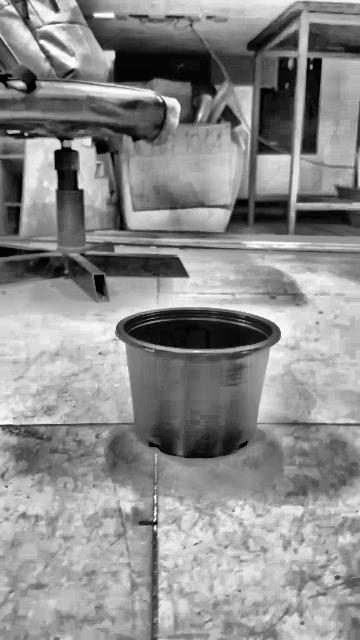pot: (116, 308, 280, 459)
